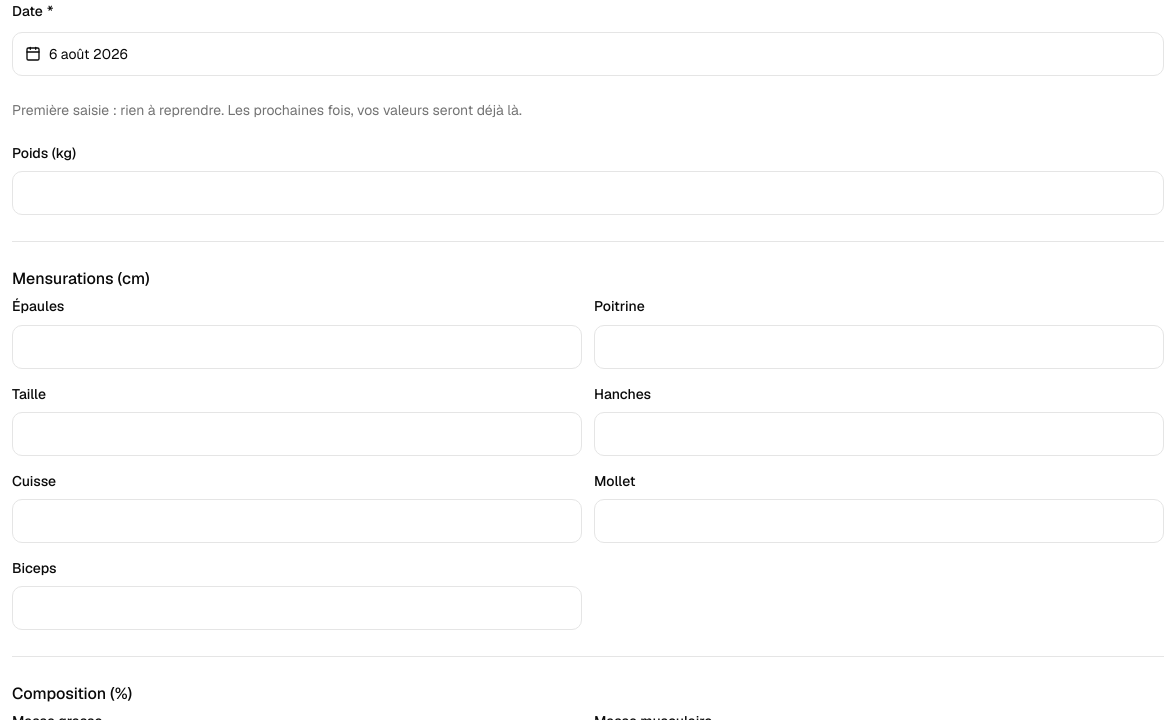
Test case: MeasurementSessionForm — submission › tells the user their session expired on 401, instead of lying that it's a network failure, and offers a way to sign in again
In the field labelled "Poids (kg)": (588, 193) left=12, top=171, right=1164, bottom=215, type "82,4"
(page scrolled)
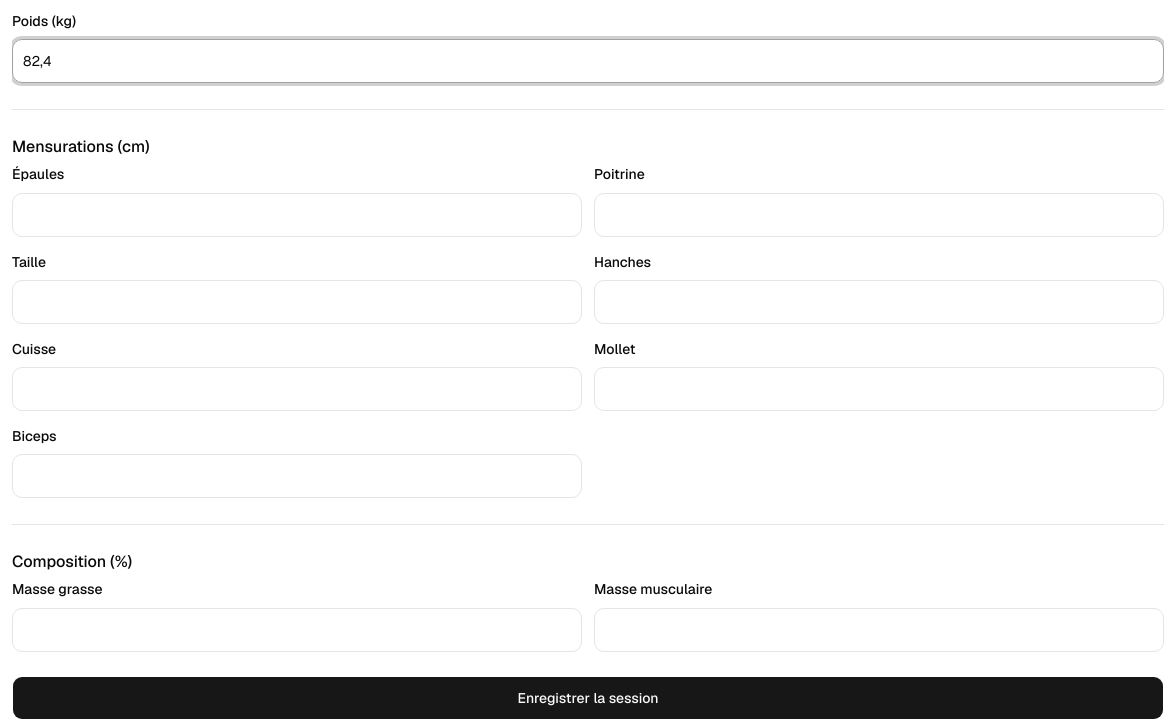
Click the button "Enregistrer la session": (588, 698) left=12, top=676, right=1164, bottom=719
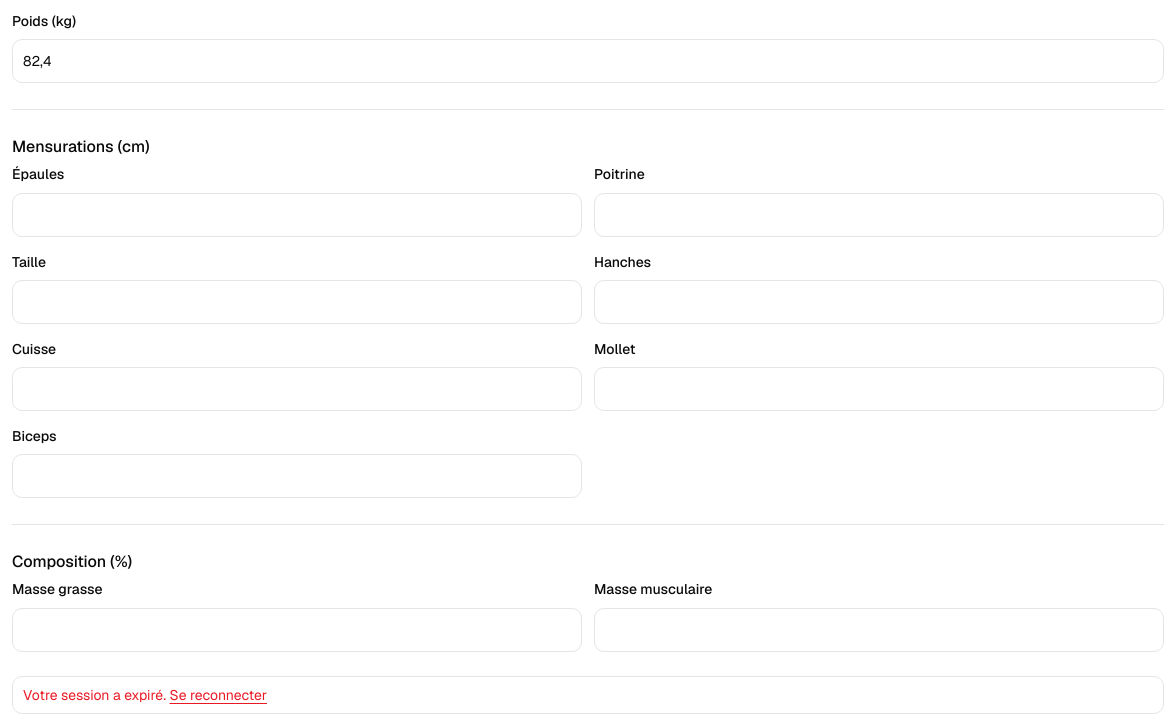
Expected: the message shows "session a expiré", left=23, top=686, right=166, bottom=704
